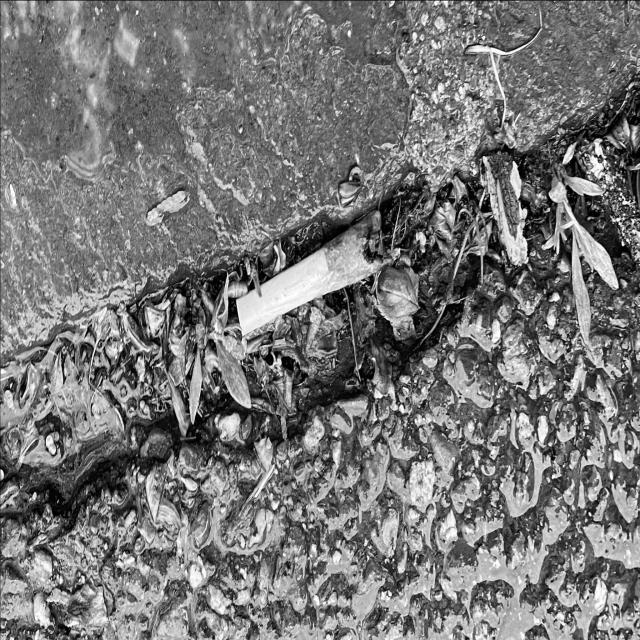other waste: (235, 206, 401, 337)
